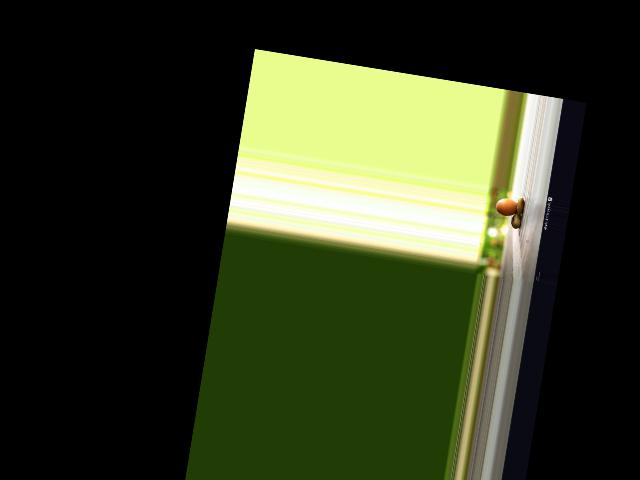egg: (495, 197, 518, 217)
